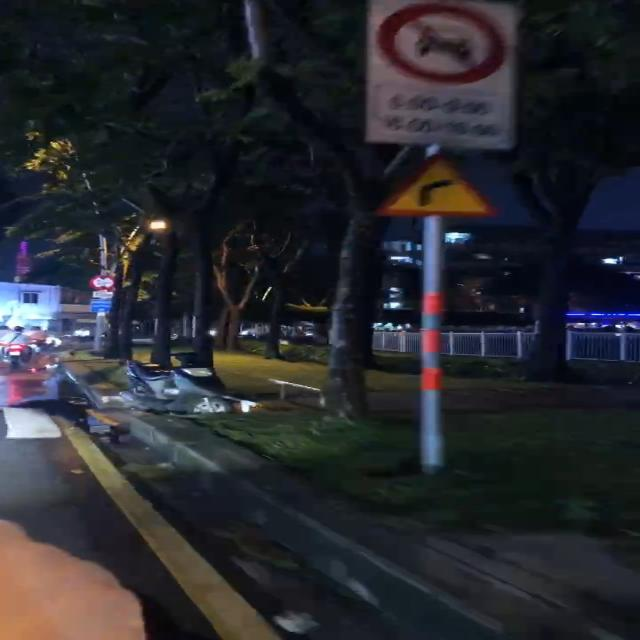Bien bao cho ngoat nguy hiem: (362, 148, 496, 223)
